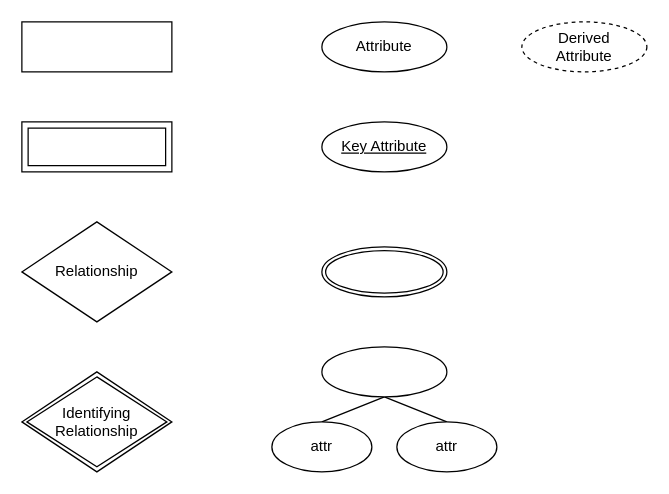
Some shapes in this 669 by 494 pixel diagram are drawn without their labels. Each missing label, with the box of its shape:
Composite Attribute: (321, 346, 447, 397)
Entity: (21, 21, 172, 72)
Multi-valued Attribute: (321, 246, 447, 297)
Weak Entity: (21, 121, 172, 172)
